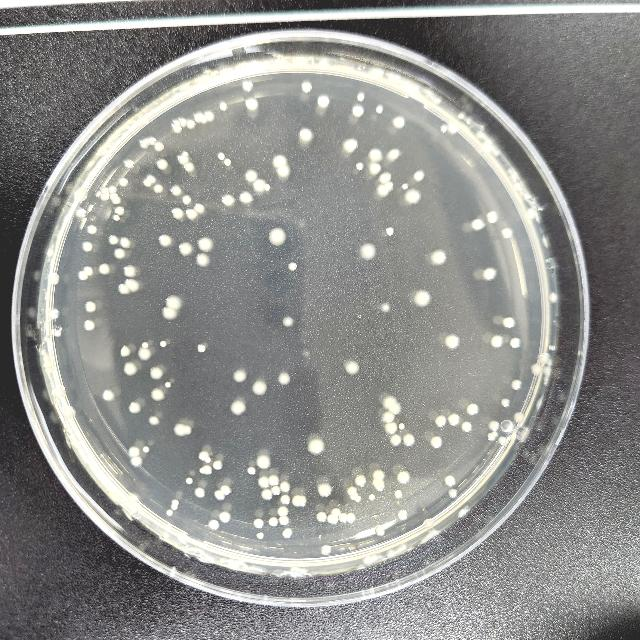colony: (268, 228, 286, 246), (414, 290, 431, 308), (360, 242, 376, 260), (430, 250, 446, 266), (405, 189, 421, 205), (308, 438, 324, 454), (198, 238, 214, 252), (272, 154, 288, 168), (368, 148, 384, 162), (342, 138, 358, 152), (257, 454, 271, 470), (232, 400, 246, 416), (166, 296, 182, 310), (239, 190, 255, 203), (196, 253, 210, 267), (299, 128, 313, 142), (346, 361, 360, 375), (253, 381, 267, 395), (126, 278, 140, 292), (151, 388, 165, 402), (162, 308, 178, 320), (222, 195, 236, 208), (254, 178, 266, 192), (246, 170, 258, 184), (186, 208, 198, 222), (180, 241, 192, 255), (388, 148, 400, 162), (369, 162, 381, 176), (383, 396, 397, 408), (318, 484, 332, 496), (124, 362, 136, 376), (138, 348, 152, 360), (124, 264, 136, 278), (491, 334, 503, 348), (538, 352, 550, 366), (126, 492, 140, 504), (377, 185, 389, 198), (396, 471, 409, 483), (150, 366, 162, 379), (63, 406, 75, 419), (384, 422, 398, 433), (128, 402, 142, 413), (172, 208, 184, 220), (160, 235, 172, 247), (278, 166, 290, 178), (246, 98, 258, 110), (379, 172, 391, 184), (393, 117, 405, 129), (318, 95, 330, 107), (446, 336, 458, 348), (278, 372, 290, 384), (403, 434, 415, 446), (430, 436, 442, 448), (448, 414, 460, 426), (467, 403, 479, 415), (389, 403, 401, 415), (354, 474, 366, 486), (373, 479, 385, 491), (258, 476, 270, 488), (174, 424, 186, 436), (234, 370, 246, 382), (484, 268, 496, 280), (472, 218, 484, 230), (242, 80, 254, 92), (54, 386, 66, 398), (293, 496, 307, 506), (130, 456, 144, 466), (76, 187, 86, 201), (111, 489, 121, 503), (353, 105, 365, 116), (391, 434, 402, 446), (128, 447, 140, 458), (487, 210, 498, 222), (49, 308, 60, 320), (172, 185, 182, 197), (182, 194, 192, 206), (381, 302, 391, 314), (414, 170, 424, 182), (302, 81, 312, 93), (383, 412, 395, 422), (269, 474, 279, 486), (208, 520, 220, 530), (115, 248, 125, 260), (119, 284, 131, 294), (158, 158, 168, 170), (148, 416, 160, 426), (504, 316, 514, 328), (448, 122, 458, 134), (526, 208, 536, 220), (531, 363, 541, 375), (99, 262, 109, 274), (178, 532, 188, 544), (86, 300, 96, 312), (103, 390, 115, 400), (205, 111, 215, 122), (514, 412, 524, 423), (49, 273, 60, 283), (194, 204, 204, 214), (283, 317, 293, 327), (436, 416, 446, 426), (462, 422, 472, 432), (317, 512, 327, 522), (328, 514, 338, 524), (398, 510, 408, 520), (375, 526, 385, 536), (321, 545, 331, 555), (445, 476, 455, 486), (448, 488, 458, 498), (278, 506, 288, 516), (268, 517, 278, 527), (282, 528, 292, 538), (254, 519, 264, 529), (280, 481, 290, 491), (262, 490, 272, 500), (215, 490, 225, 500), (220, 512, 230, 522), (195, 488, 205, 498), (213, 460, 223, 470), (120, 346, 130, 356), (121, 238, 131, 248), (154, 142, 164, 152), (124, 159, 134, 169), (511, 380, 521, 390), (489, 420, 499, 430), (498, 436, 508, 446), (510, 338, 520, 348), (502, 228, 512, 238), (76, 208, 86, 218), (83, 241, 93, 251), (78, 270, 88, 280), (85, 320, 95, 330), (129, 504, 139, 514), (385, 180, 393, 192), (278, 517, 290, 525), (178, 156, 190, 164), (195, 112, 203, 124), (374, 469, 384, 478), (199, 452, 209, 461), (154, 184, 164, 193), (187, 119, 196, 129), (172, 125, 182, 134), (115, 207, 125, 216), (502, 398, 511, 408), (184, 164, 194, 172), (289, 262, 297, 272), (348, 513, 356, 523), (280, 496, 290, 504), (424, 519, 434, 527), (272, 486, 280, 496), (221, 486, 231, 494), (202, 466, 212, 474), (183, 425, 191, 435), (149, 136, 157, 146), (110, 235, 118, 245), (543, 366, 551, 376), (84, 266, 92, 276), (386, 227, 394, 236), (357, 92, 365, 101), (348, 486, 357, 494), (332, 508, 341, 516), (88, 224, 96, 233), (55, 328, 63, 337), (180, 118, 187, 128), (355, 162, 363, 170), (350, 492, 358, 500), (340, 514, 348, 522), (248, 467, 256, 475), (198, 345, 206, 353), (220, 103, 228, 111), (143, 179, 151, 187), (148, 175, 156, 183), (120, 178, 128, 186), (113, 196, 121, 204), (110, 192, 118, 200), (488, 433, 496, 441), (440, 124, 448, 132), (101, 186, 109, 194), (46, 248, 54, 256), (140, 141, 148, 149), (550, 292, 556, 302), (218, 152, 225, 160), (109, 185, 117, 192), (101, 193, 109, 200), (225, 158, 231, 166), (402, 182, 408, 190), (376, 106, 382, 114), (399, 422, 405, 430), (396, 490, 402, 498), (256, 532, 264, 538), (166, 510, 174, 516), (160, 340, 166, 348), (142, 446, 150, 452), (144, 138, 150, 146), (264, 183, 270, 190), (185, 478, 192, 484), (369, 494, 375, 500), (355, 496, 361, 502), (205, 457, 211, 463), (171, 504, 177, 510), (142, 342, 148, 348), (165, 382, 171, 388), (202, 115, 206, 124), (174, 119, 180, 125), (114, 215, 120, 221), (458, 113, 464, 119), (142, 118, 148, 124), (172, 500, 180, 504), (200, 468, 204, 474), (182, 152, 188, 156), (492, 432, 498, 436), (126, 124, 130, 130)
